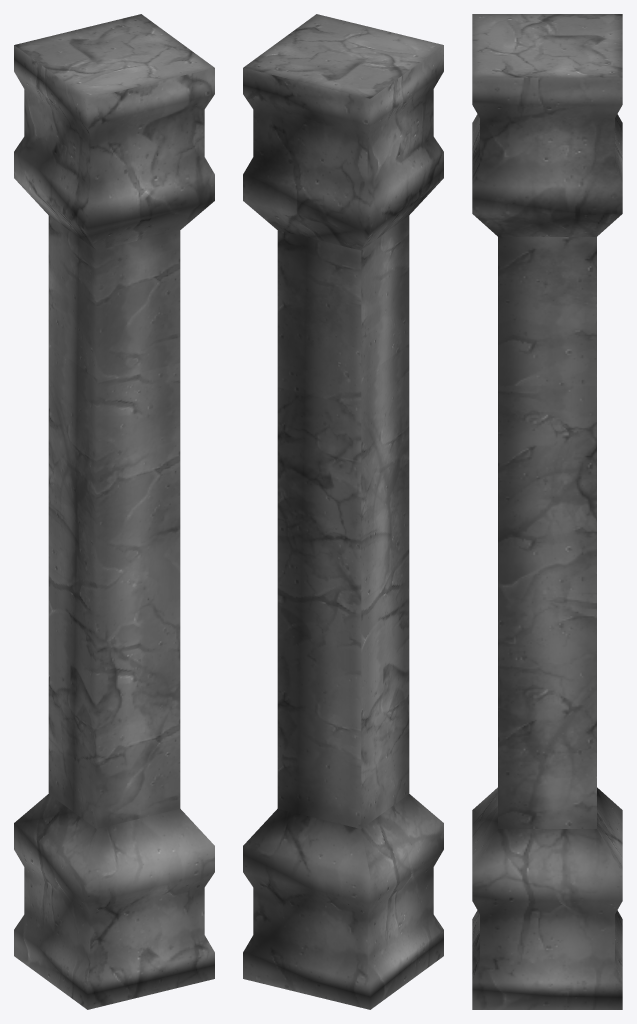
The model's file is Piller.fbx.
3 views of the same model, side by side, from view 1: azimuth 30°, elevation 25°; view 2: azimuth 150°, elevation 25°; view 3: azimuth 270°, elevation 25° (orthographic). The views are drawn at different scales.
Visible parts, largest first — view 1: Cube_014; view 2: Cube_014; view 3: Cube_014.
Part boxes in pixels (x1,y1,x2,y2): Cube_014: [14, 14, 214, 1009]; Cube_014: [243, 14, 443, 1009]; Cube_014: [472, 14, 622, 1009].
Size of the model in its own units: 0.7157 by 4.9 by 0.7157.
